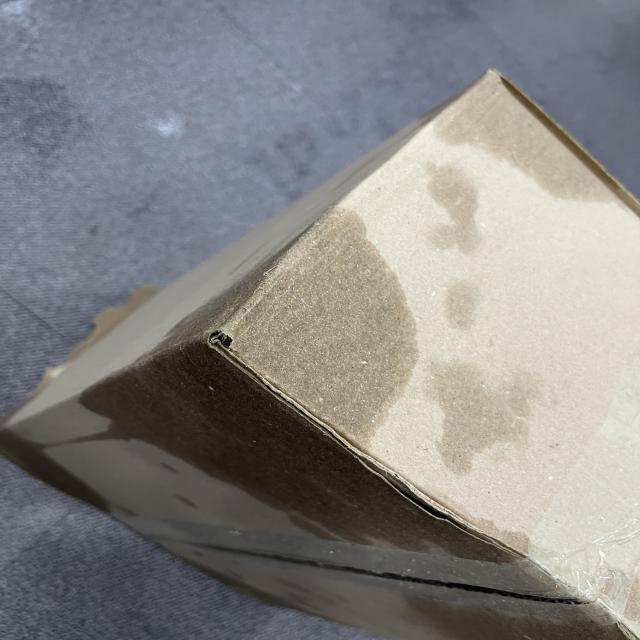wet: (128, 202, 428, 521), (428, 73, 634, 207)
